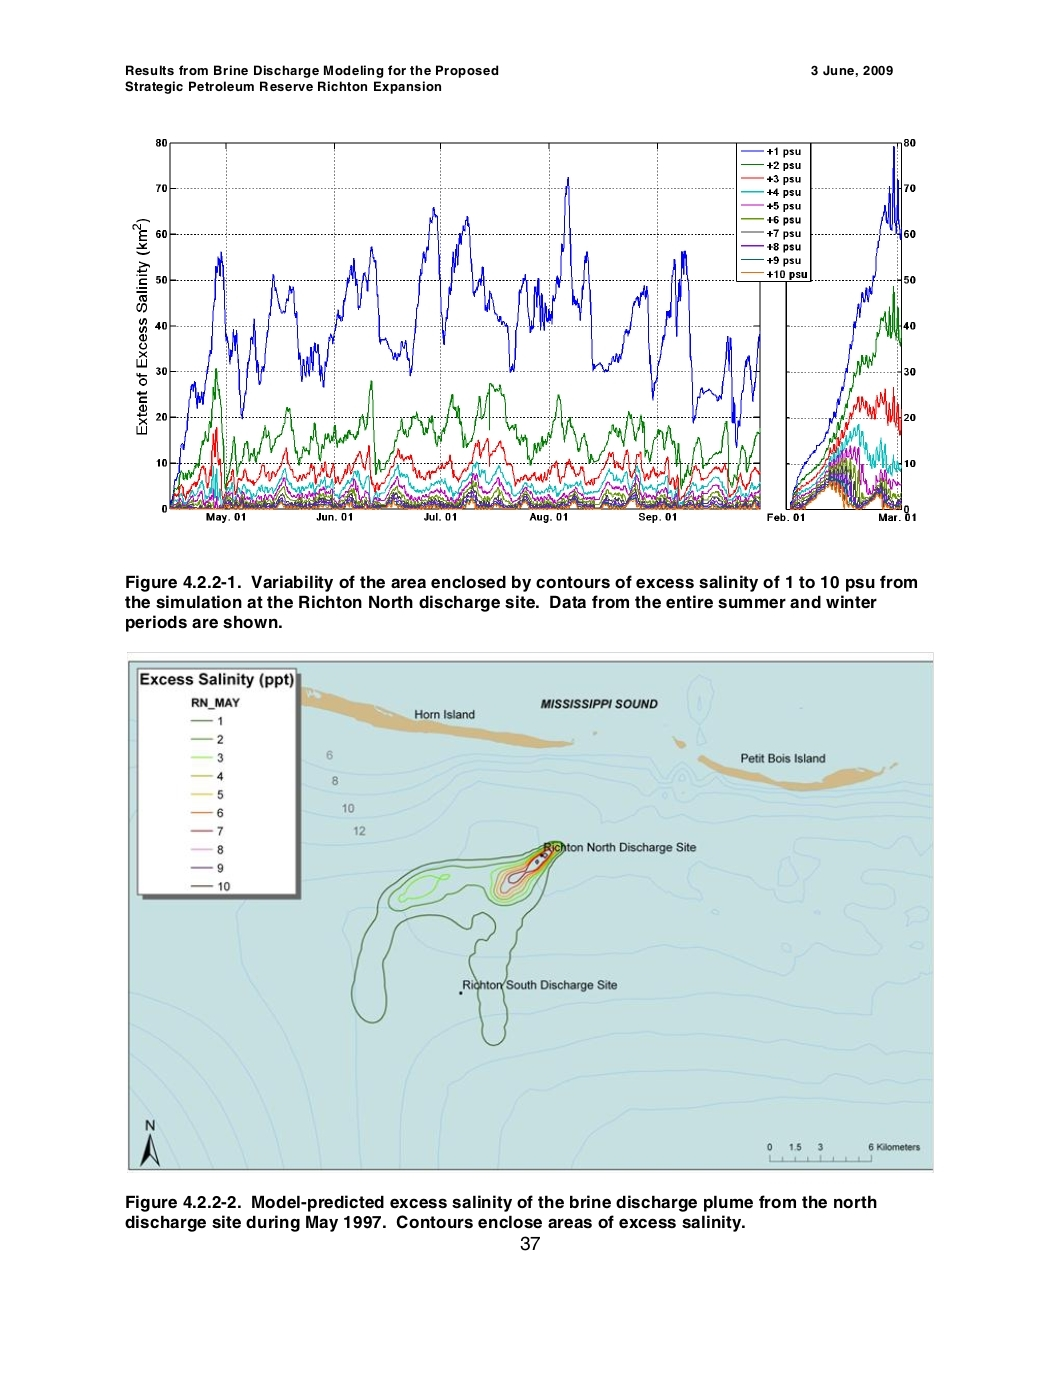figure: (127, 651, 933, 1171), (132, 138, 915, 523)
